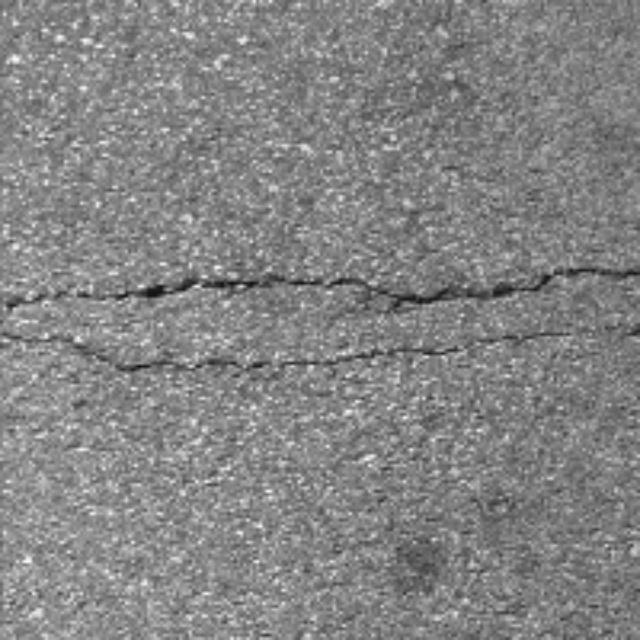Crack: (0, 158, 640, 463)
